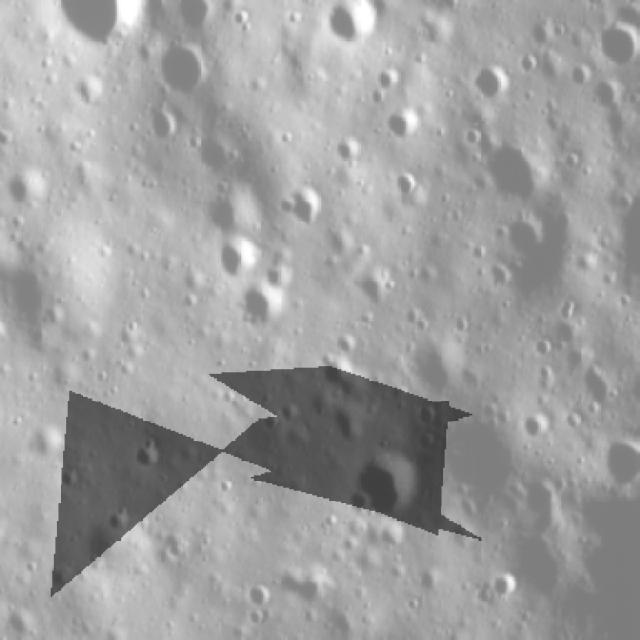crater: (435, 414, 517, 508), (474, 132, 552, 206), (350, 454, 430, 521), (53, 3, 142, 59), (408, 338, 472, 404), (156, 42, 216, 102), (520, 483, 574, 543), (508, 545, 569, 598), (6, 162, 57, 224), (198, 184, 253, 236), (326, 2, 386, 49), (276, 182, 326, 232), (463, 62, 520, 105), (240, 286, 288, 336), (572, 361, 618, 413), (216, 239, 264, 287), (23, 416, 66, 466), (194, 130, 235, 181), (598, 439, 638, 490), (352, 270, 398, 313), (597, 20, 638, 68), (505, 213, 547, 259), (327, 402, 365, 452), (124, 435, 164, 480), (377, 103, 418, 145), (142, 108, 178, 152), (98, 502, 139, 540), (519, 411, 558, 449), (243, 581, 280, 619), (176, 2, 216, 36), (157, 533, 191, 572), (590, 79, 624, 116), (563, 59, 597, 93), (374, 67, 408, 98), (52, 470, 86, 498), (528, 337, 558, 363), (492, 576, 520, 602)
